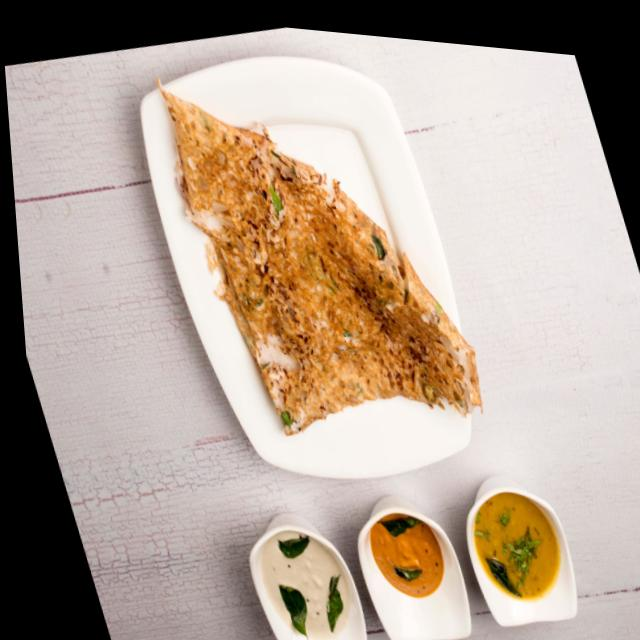DOSA: (156, 86, 480, 430)
RED CHUTNEY: (363, 505, 455, 604)
SAMBAR: (463, 485, 573, 607)
WHITE CHUTNEY: (250, 525, 363, 640)
